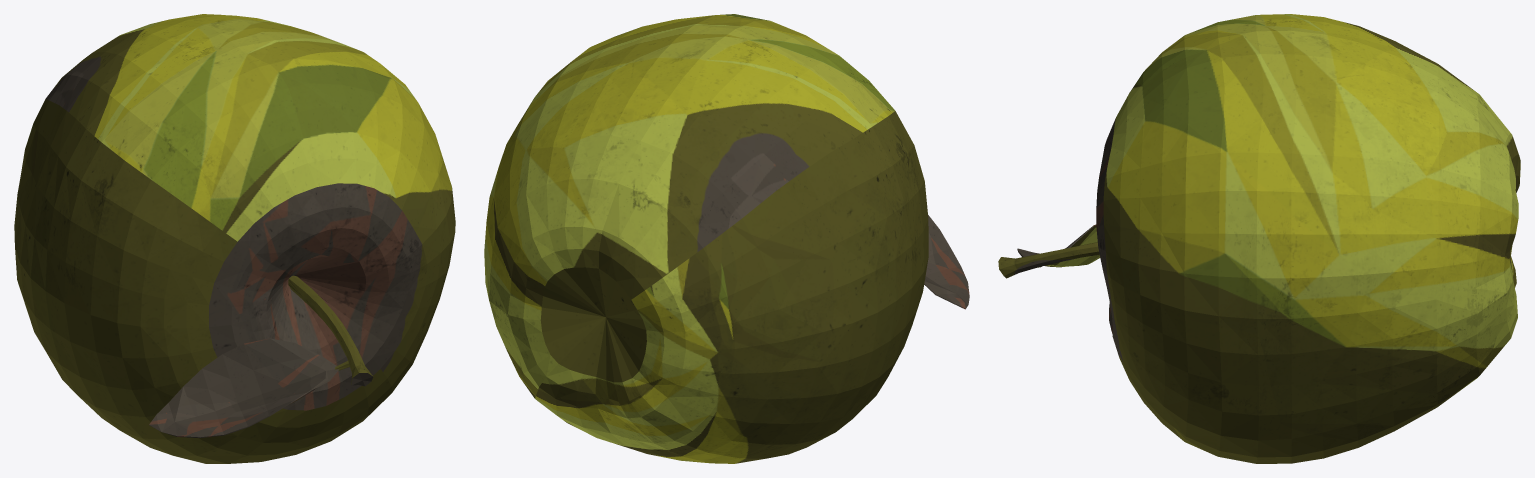
Rendered from fruit.obj.
3 views of the same model, side by side, from view 1: azimuth 30°, elevation 25°; view 2: azimuth 150°, elevation 25°; view 3: azimuth 270°, elevation 25° (orthographic).
Parts seen in each view (by area): view 1: Object.1; view 2: Object.1; view 3: Object.1.
Boxes of the visible parts, x1,y1,x2,y2 form: Object.1: (14, 14, 455, 463); Object.1: (484, 14, 969, 463); Object.1: (998, 14, 1520, 463).
Bounding box in the file's own units: 10 × 10.37 × 12.24.
Materials: 1 (1 with a texture image).
